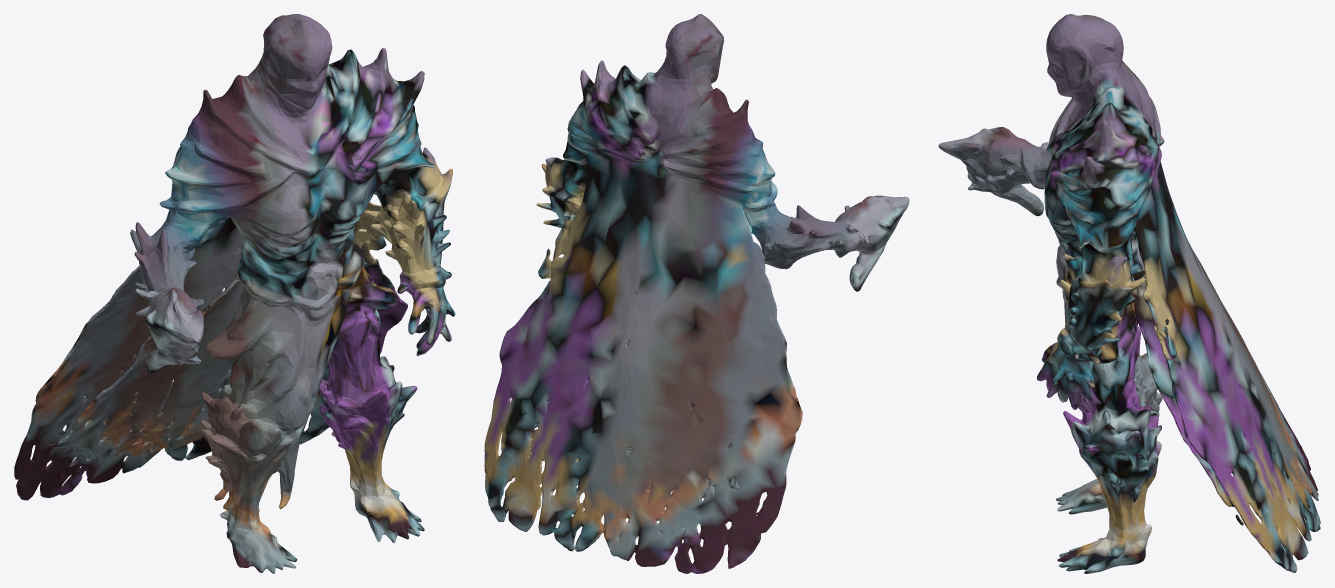
File: skeletonWarriorSummon.glb
3 views of the same model, side by side, from view 1: azimuth 30°, elevation 25°; view 2: azimuth 150°, elevation 25°; view 3: azimuth 270°, elevation 25° (orthographic). The views are drawn at different scales.
Visible parts, largest first — view 1: world; view 2: world; view 3: world.
Part boxes in pixels (x1=…): world: x1=14, y1=14, x2=455, y2=573; world: x1=484, y1=14, x2=909, y2=573; world: x1=938, y1=14, x2=1320, y2=573.
Size of the model in its own units: 0.6983 by 1 by 0.6848.
